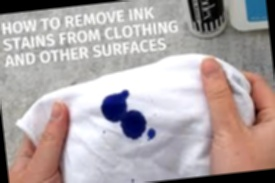ink: (100, 89, 131, 124), (120, 110, 148, 138), (148, 127, 155, 140)
